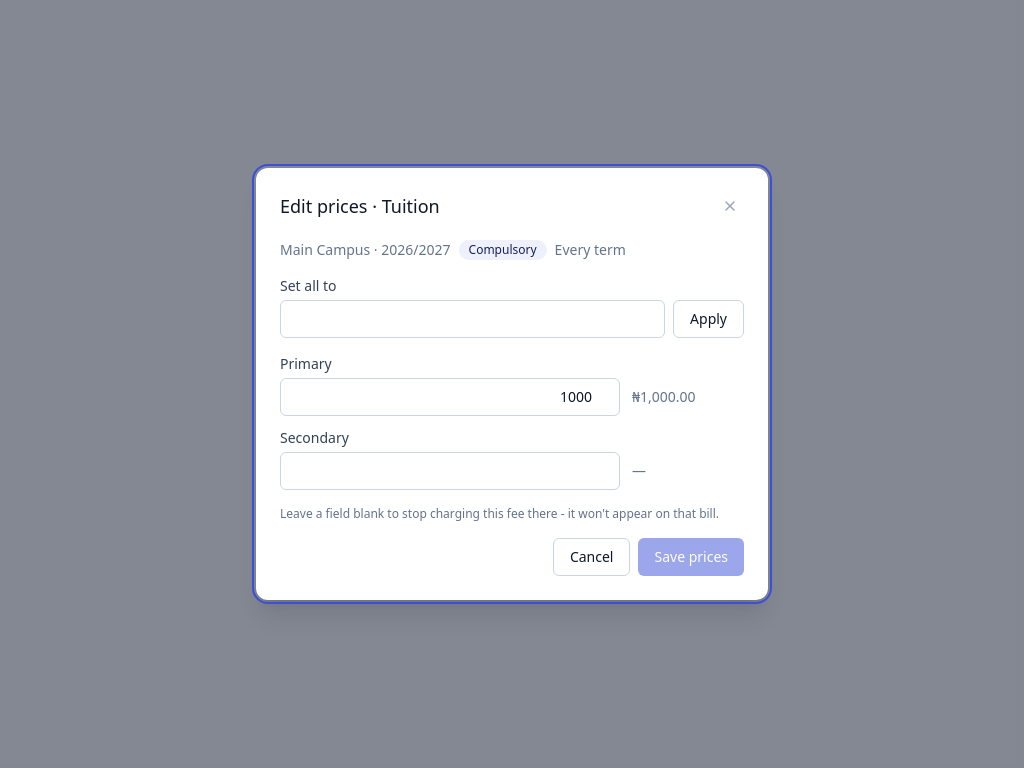
Test: FeePricesModal › surfaces a thrown ApiError message
The image size is (1024, 768).
Type "2000" into the number field named "Tuition price for Secondary".
click(450, 471); type("2000")  # box [280,452,620,490]
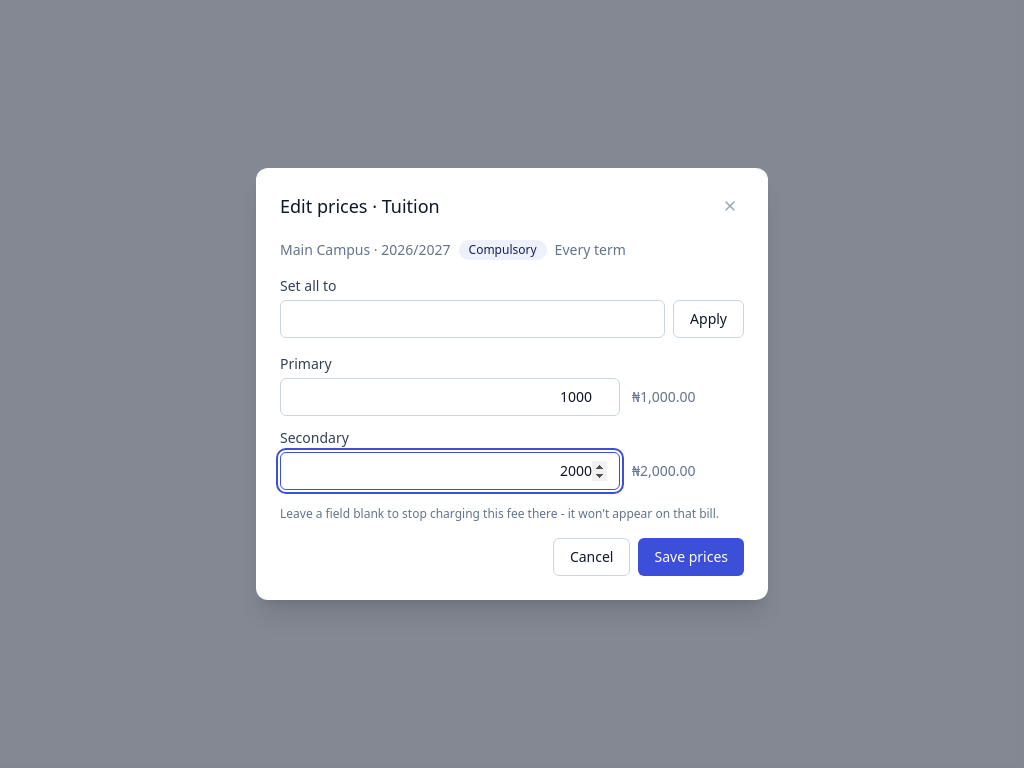
Click the button "Save prices".
click(691, 557)  # box [638,538,744,576]
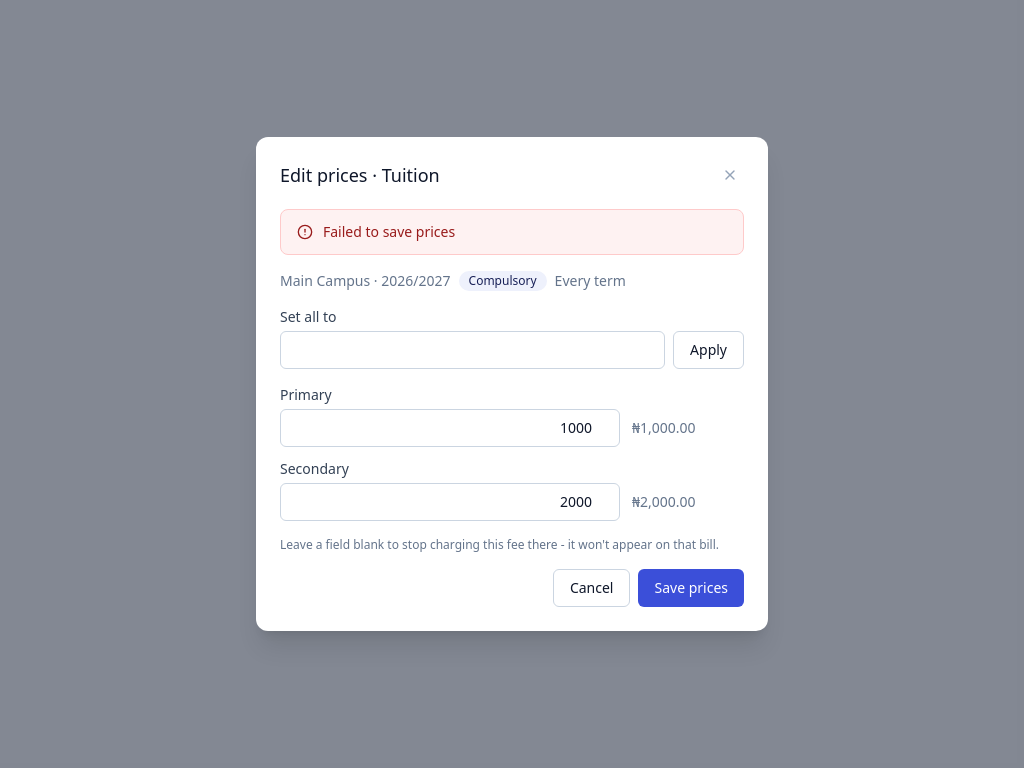
Expected: the text "Failed to save prices" is shown, [323,222,455,242]
